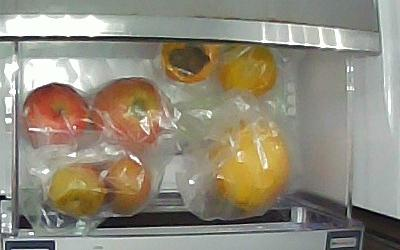apple_vinyl: (93, 75, 164, 153), (20, 81, 92, 149)
grapefruit_vinyl: (210, 120, 291, 212)
persimmon_vinyl: (221, 46, 278, 99), (161, 43, 222, 86)
prune_vinyl: (46, 164, 107, 218), (102, 156, 150, 215)
